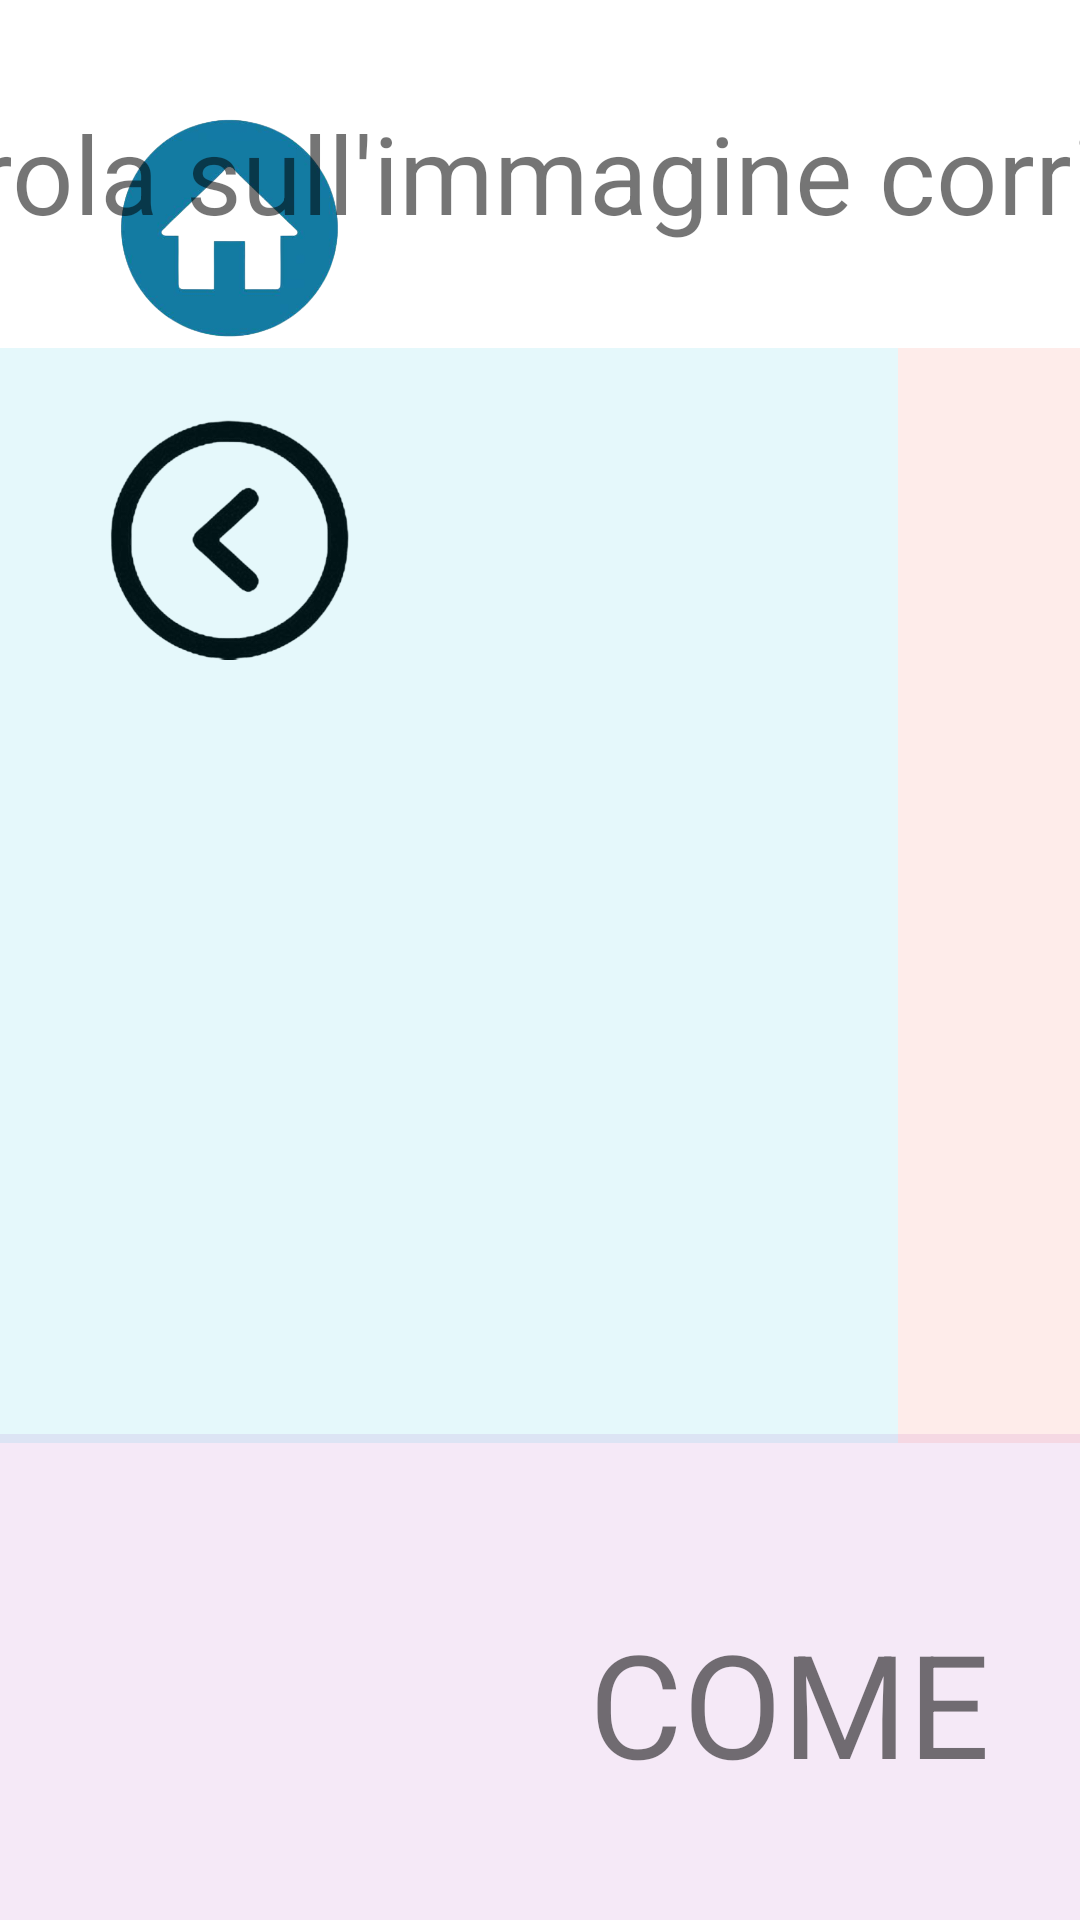

Named icons in this screenshot (1080px×1920px) and their bounding boxes, (x1, y1, x2, y2):
home: (84, 120, 368, 337)
indietro: (111, 420, 349, 660)
